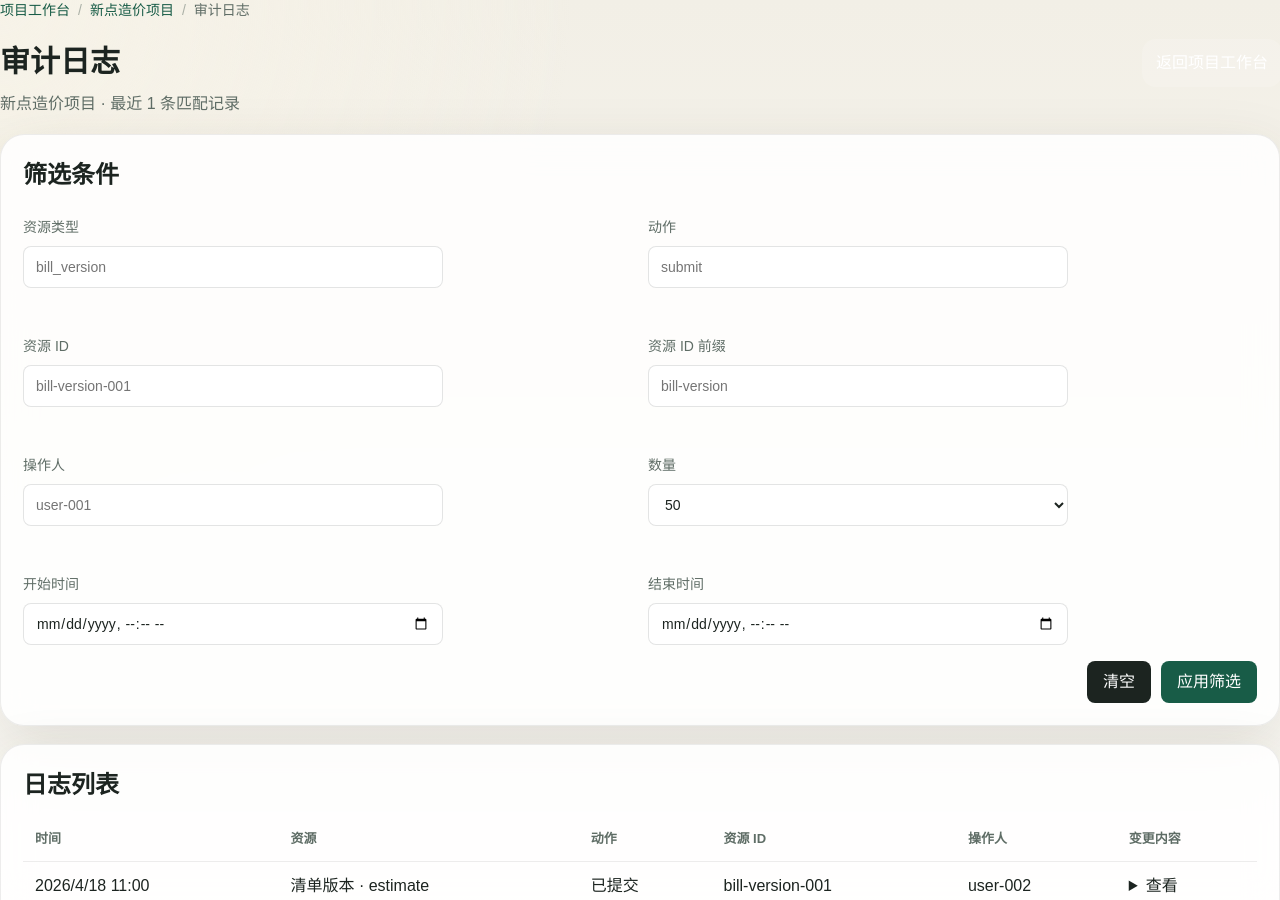
ProjectAuditLogsPage › renders audit log records and payload diff
Expected: the heading "审计日志" is shown, [0,45,120,78]
Expected: the text "新点造价项目 · 最近 1 条匹配记录" is shown, [0,92,240,116]
Click the heading "查看". click: (1162, 885)
box: [1146,876,1178,894]
(page scrolled)
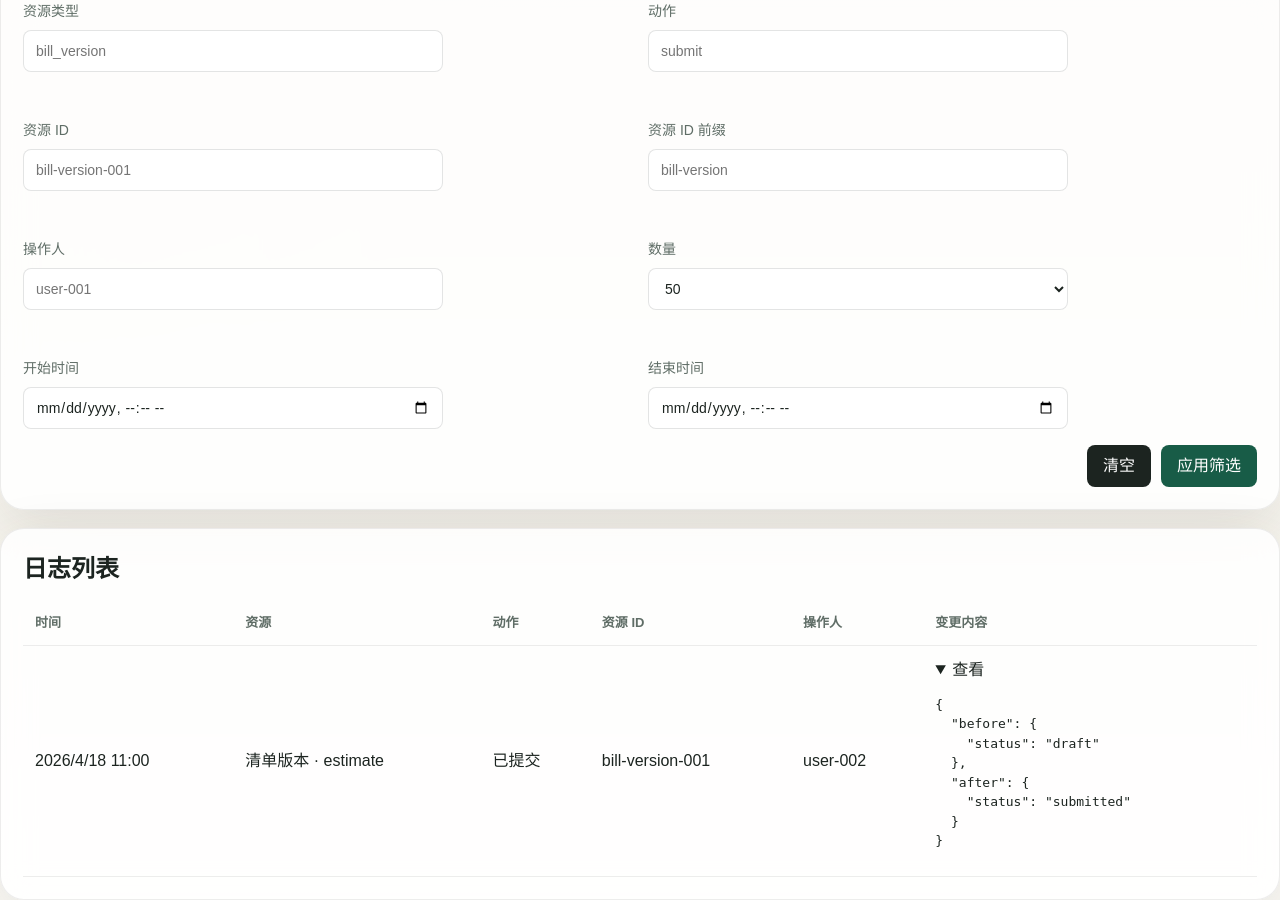
Expected: the text "submitted" is shown, [935,696,1131,848]
